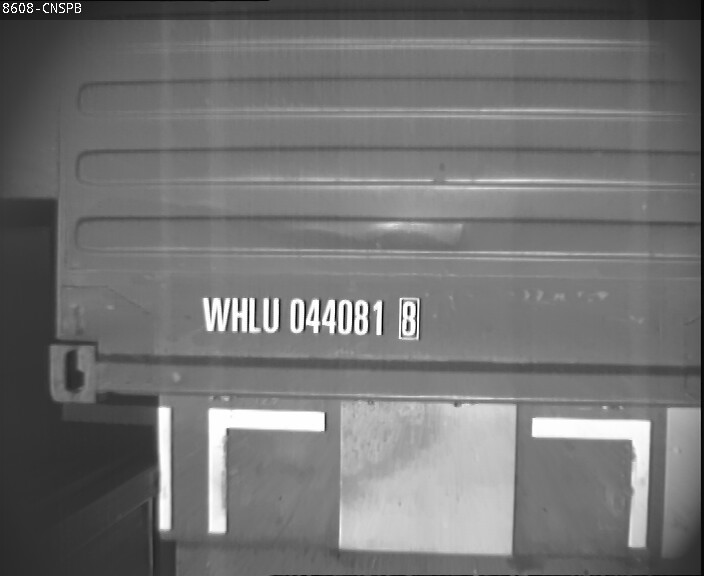groundmarker_1: (66, 405, 325, 534)
